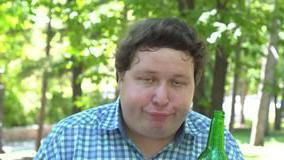Drunk: (133, 54, 191, 136)
